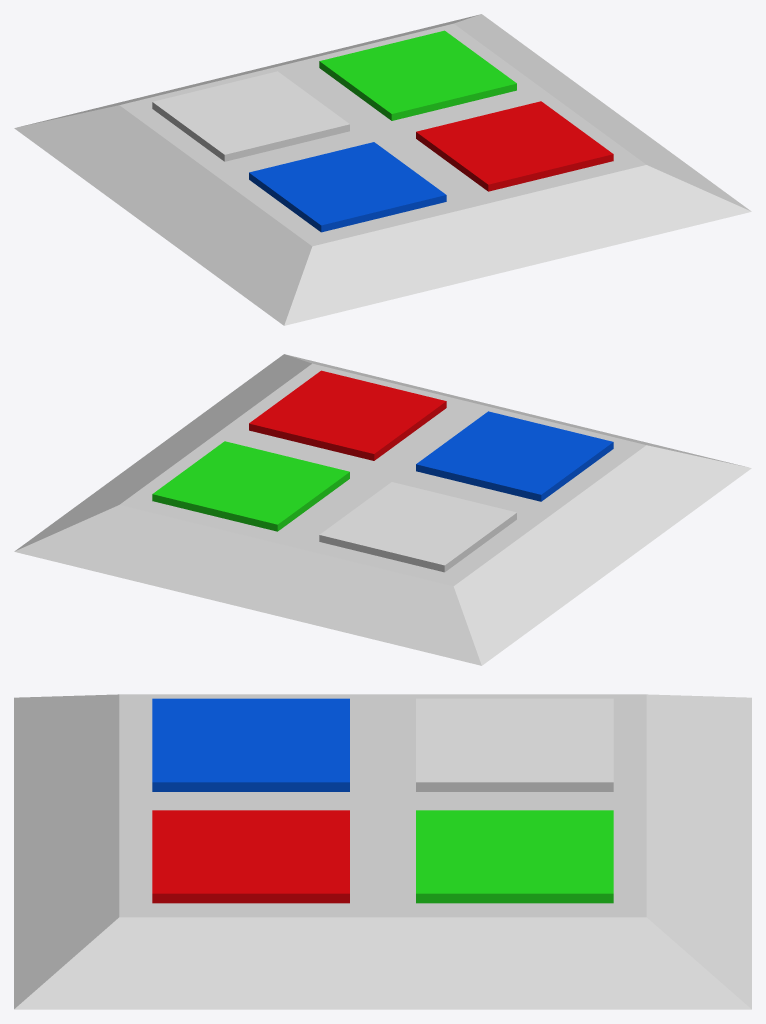
Rendered from simonsayslenta.fbx.
3 renders of one model, top to bottom at view 1: azimuth 30°, elevation 25°; view 2: azimuth 150°, elevation 25°; view 3: azimuth 270°, elevation 25°, orthographic. The views are drawn at different scales.
Visible parts, largest first — view 1: Cube, Cube.001, Cube.003, Cube.002, Cube.006; view 2: Cube, Cube.002, Cube.006, Cube.001, Cube.003; view 3: Cube, Cube.001, Cube.002, Cube.003, Cube.006.
Boxes of the visible parts, left/top/right/bottom form: Cube: left=14, top=14, right=751, bottom=325; Cube.001: left=416, top=101, right=613, bottom=191; Cube.003: left=152, top=71, right=349, bottom=161; Cube.002: left=249, top=142, right=446, bottom=232; Cube.006: left=319, top=30, right=516, bottom=120; Cube: left=14, top=354, right=751, bottom=665; Cube.002: left=416, top=411, right=613, bottom=501; Cube.006: left=152, top=441, right=349, bottom=531; Cube.001: left=249, top=370, right=446, bottom=460; Cube.003: left=319, top=482, right=516, bottom=572; Cube: left=14, top=694, right=751, bottom=1009; Cube.001: left=152, top=810, right=349, bottom=903; Cube.002: left=152, top=698, right=349, bottom=791; Cube.003: left=416, top=698, right=613, bottom=791; Cube.006: left=416, top=810, right=613, bottom=903.
Bounding box in the file's own units: 280 × 24 × 280.
